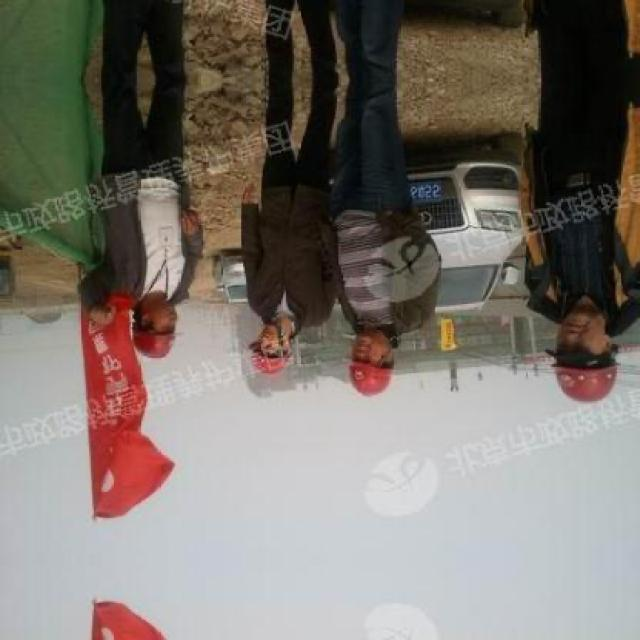con casco: (335, 309, 425, 408), (103, 266, 186, 358), (234, 312, 286, 391)
